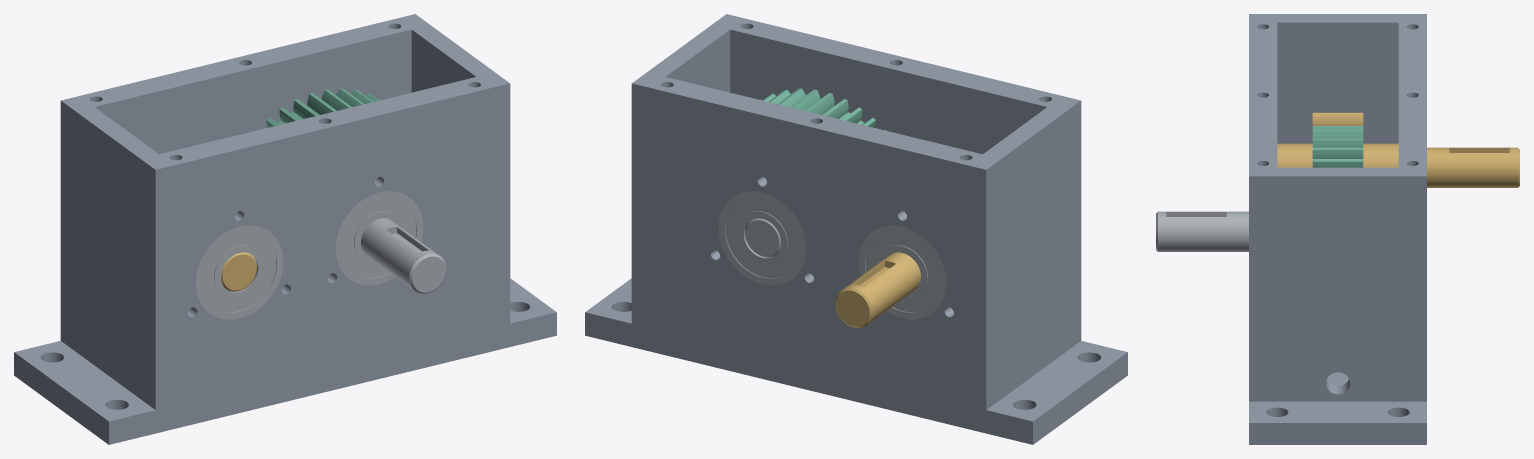
File: step_26.glb
3 renders of one model, left to right at view 1: azimuth 30°, elevation 25°; view 2: azimuth 150°, elevation 25°; view 3: azimuth 270°, elevation 25°, orthographic. The views are drawn at different scales.
Visible parts, largest first — view 1: part__gearbox housing, part__bearing B, part__bearing D, part__output shaft, part__gear wheel, part__input pinion shaft; view 2: part__gearbox housing, part__bearing C, part__bearing A, part__input pinion shaft, part__gear wheel, part__output shaft; view 3: part__gearbox housing, part__input pinion shaft, part__output shaft, part__gear wheel.
Boxes of the visible parts, <box> form: part__gearbox housing: <box>14,14,556,444</box>; part__bearing B: <box>195,225,283,319</box>; part__bearing D: <box>335,191,423,285</box>; part__output shaft: <box>361,218,446,293</box>; part__gear wheel: <box>256,88,381,130</box>; part__input pinion shaft: <box>221,252,256,291</box>; part__gearbox housing: <box>585,14,1127,444</box>; part__bearing C: <box>718,191,806,285</box>; part__bearing A: <box>858,225,946,319</box>; part__input pinion shaft: <box>835,252,920,327</box>; part__gear wheel: <box>760,88,885,130</box>; part__output shaft: <box>745,218,780,257</box>; part__gearbox housing: <box>1249,14,1426,444</box>; part__input pinion shaft: <box>1277,112,1519,187</box>; part__output shaft: <box>1156,211,1248,251</box>; part__gear wheel: <box>1312,126,1363,167</box>.
Size of the model in its own units: 240 by 135 by 180.
